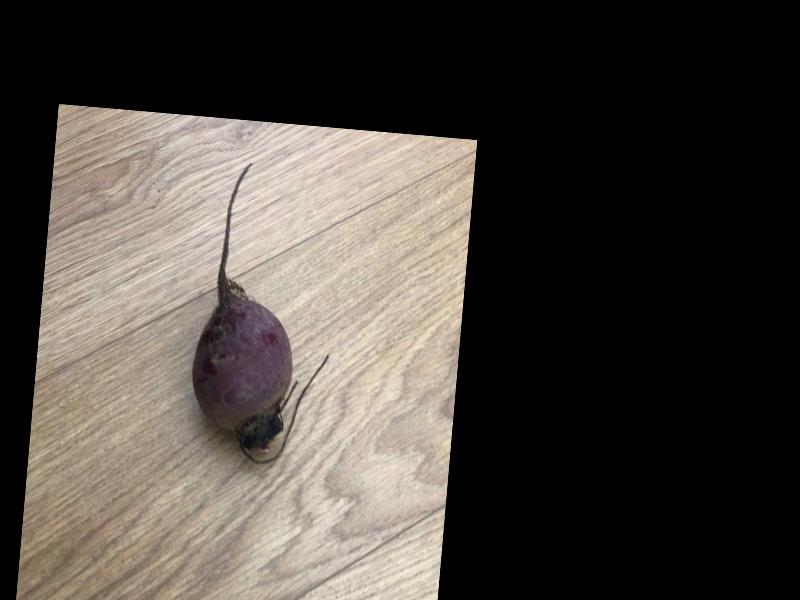Beet: (184, 158, 344, 468)
